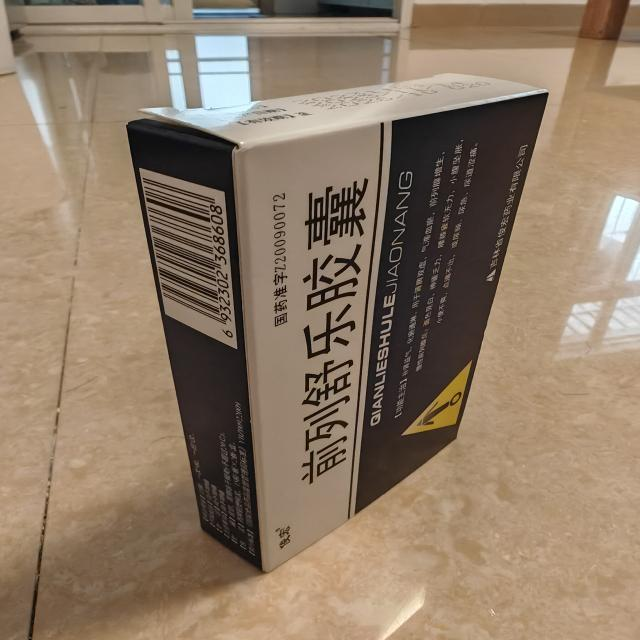box: (119, 68, 556, 577)
